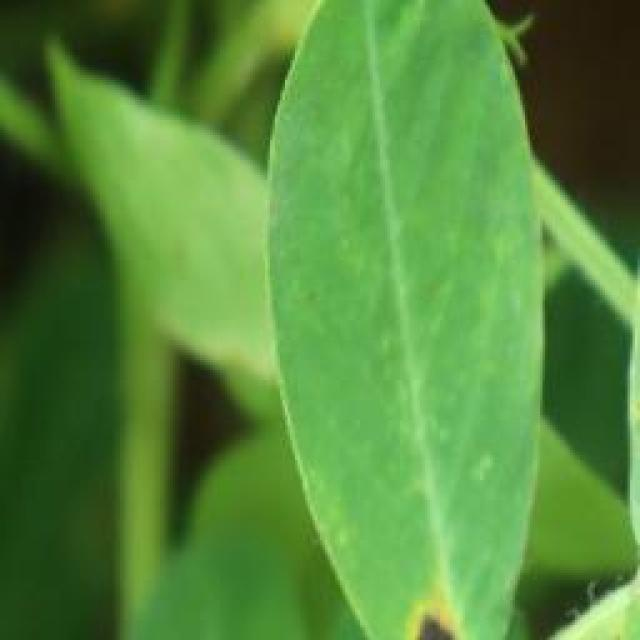Sigatoka: (393, 599, 485, 640)
